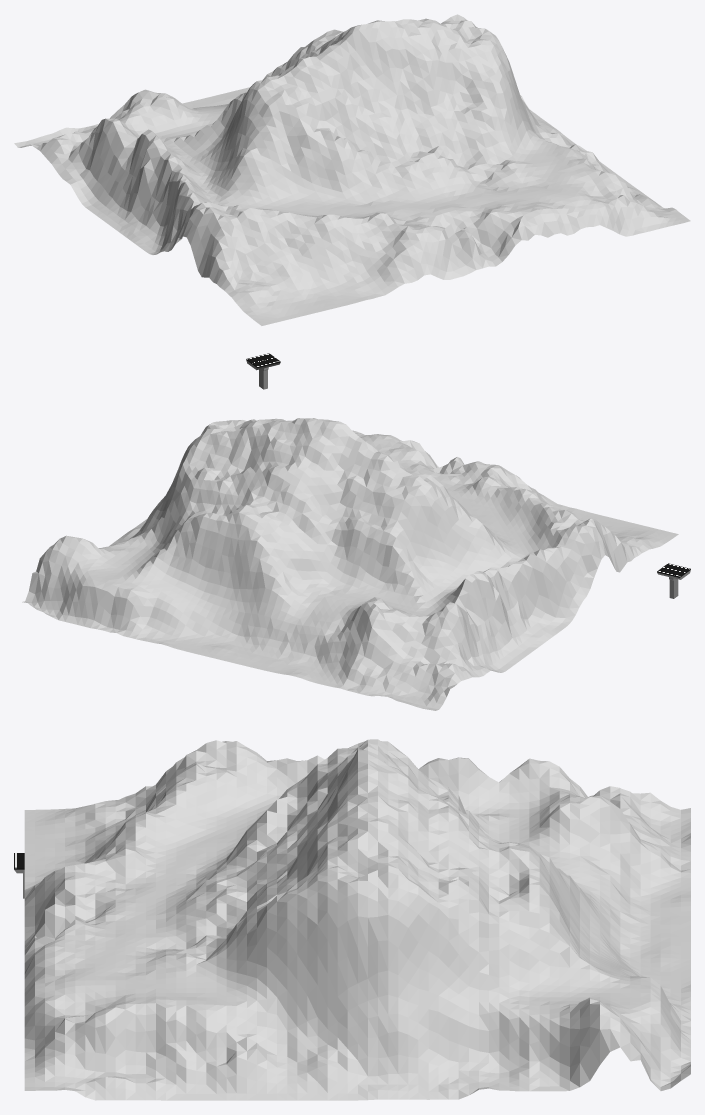
File: cartmap 1.glb
3 renders of one model, top to bottom at view 1: azimuth 30°, elevation 25°; view 2: azimuth 150°, elevation 25°; view 3: azimuth 270°, elevation 25°, orthographic. The views are drawn at different scales.
Parts seen in each view (by area): view 1: map3dmesh; view 2: map3dmesh, mesh; view 3: map3dmesh.
Boxes of the visible parts, x1,y1,x2,y2 form: map3dmesh: (14,14,690,325); map3dmesh: (22,418,678,710); mesh: (657,563,690,598); map3dmesh: (24,739,690,1100).
Bounding box in the file's own units: 30.58 × 14.41 × 30.48.
Materials: 1 (1 with a texture image).
